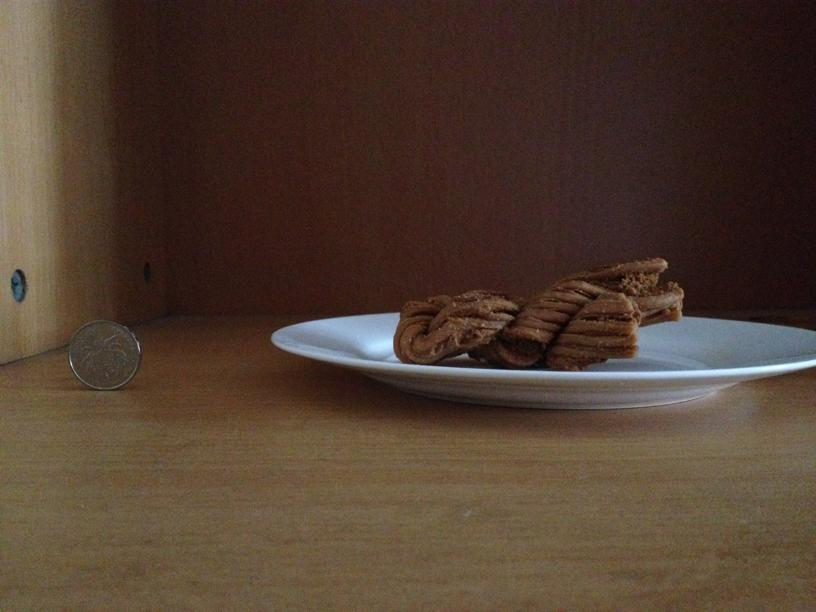coin: (66, 320, 139, 390)
fired_dough_twist: (396, 258, 685, 371)
